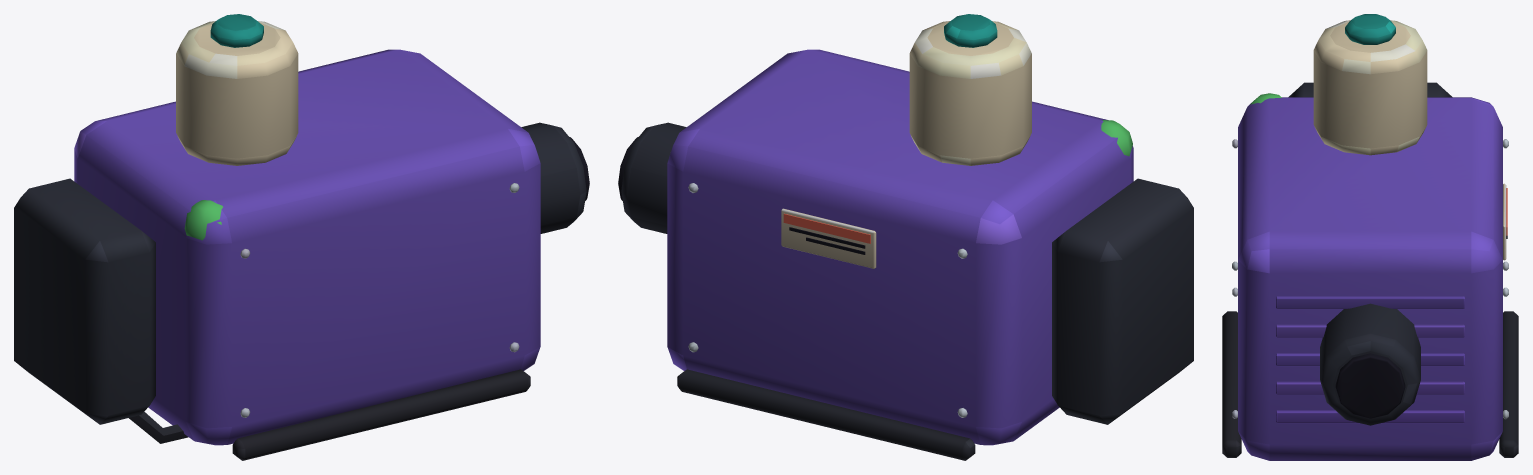
Rendered from SM_Fx_FogMachine.fbx.
3 renders of one model, left to right at view 1: azimuth 30°, elevation 25°; view 2: azimuth 150°, elevation 25°; view 3: azimuth 270°, elevation 25°, orthographic. The views are drawn at different scales.
Visible parts, largest first — view 1: SM_Fx_FogMachine; view 2: SM_Fx_FogMachine; view 3: SM_Fx_FogMachine.
Boxes of the visible parts, x1,y1,x2,y2 form: SM_Fx_FogMachine: (14,14,589,460); SM_Fx_FogMachine: (618,14,1193,460); SM_Fx_FogMachine: (1222,14,1518,460).
Size of the model in its own units: 89.29 by 59.59 by 47.1.
